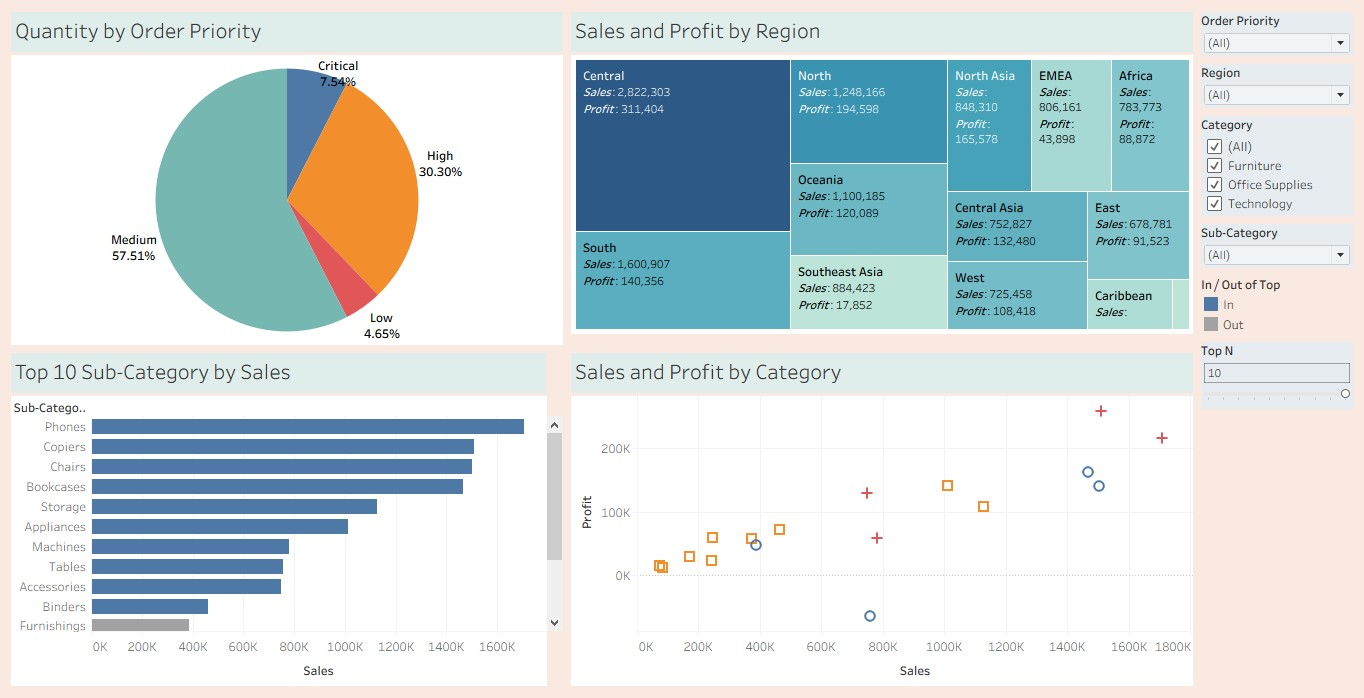

What the dashboard file says about the page in this screenshot:
{"tool":"tableau","page":{"name":"Dashboard 2","canvas":[1000,1000],"units":"permille","ordinal":1},"visuals":[{"type":"worksheet","title":"Sheet 7","mark":"Pie","box":[6.9,14.5,399.1,485.5]},{"type":"worksheet","title":"Sheet 9","mark":"Automatic","box":[406,14.5,448.5,485.5]},{"type":"filter","title":"Sheet 7","param":"[federated.1x3ysz21c6oyff14n10ec0wwja66].[none:Order Priority:nk]","box":[854.5,14.5,138.5,94.2]},{"type":"filter","title":"Sheet 9","param":"[federated.1x3ysz21c6oyff14n10ec0wwja66].[none:Region:nk]","box":[854.5,108.7,138.5,94.2]},{"type":"filter","title":"Sheet 8","param":"[federated.1x3ysz21c6oyff14n10ec0wwja66].[none:Category:nk]","box":[854.5,202.9,138.5,195.7]},{"type":"filter","title":"Sheet 8","param":"[federated.1x3ysz21c6oyff14n10ec0wwja66].[none:Sub-Category:nk]","box":[854.5,398.5,138.5,94.2]},{"type":"legend","title":"Sheet 5","param":"[federated.1x3ysz21c6oyff14n10ec0wwja66].[io:Sub-Category Profit Set:nk]","box":[854.5,492.7,138.5,119.6]},{"type":"worksheet","title":"Sheet 5","mark":"Automatic","rows":["Sub-Category"],"cols":["Sales"],"box":[6.9,500,399.1,485.5]},{"type":"worksheet","title":"Sheet 8","mark":"Automatic","rows":["Profit"],"cols":["Sales"],"box":[406,500,448.5,485.5]},{"type":"parameter","param":"[Parameters].[Parameter 1]","box":[854.5,612.3,138.5,135.9]}]}

Visuals, with their boxes on the dashboard's canvas, which has no fixed pixel size, in thousandths of its width and height (x1, y1, x2, y2). These are canvas units, not pixel positions in the 1364x698 screenshot, which may show the page scaled, cropped or inside an application window:
"Sheet 7" worksheet (Pie marks): {"left": 7, "top": 14, "right": 406, "bottom": 500}
"Sheet 9" worksheet: {"left": 406, "top": 14, "right": 854, "bottom": 500}
"Sheet 7" filter: {"left": 854, "top": 14, "right": 993, "bottom": 109}
"Sheet 9" filter: {"left": 854, "top": 109, "right": 993, "bottom": 203}
"Sheet 8" filter: {"left": 854, "top": 203, "right": 993, "bottom": 399}
"Sheet 8" filter: {"left": 854, "top": 398, "right": 993, "bottom": 493}
"Sheet 5" legend: {"left": 854, "top": 493, "right": 993, "bottom": 612}
"Sheet 5" worksheet: {"left": 7, "top": 500, "right": 406, "bottom": 986}
"Sheet 8" worksheet: {"left": 406, "top": 500, "right": 854, "bottom": 986}
parameter: {"left": 854, "top": 612, "right": 993, "bottom": 748}
